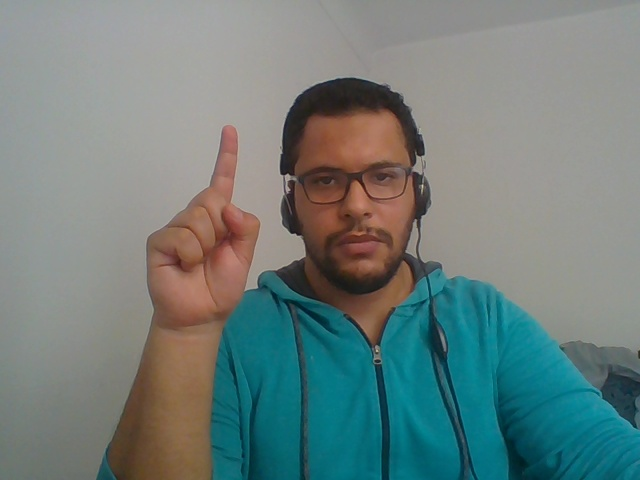handup: (118, 109, 273, 412)
